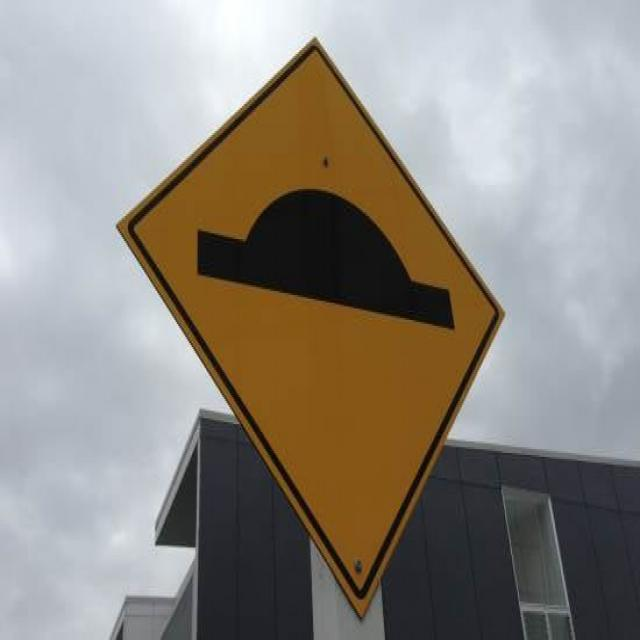hump: (117, 29, 514, 629)
